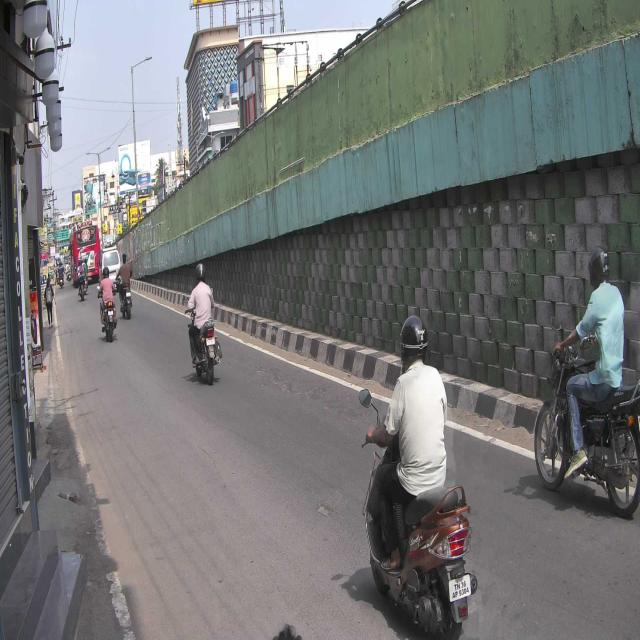single_rider: (358, 313, 480, 640), (534, 244, 640, 516), (184, 264, 223, 388)
